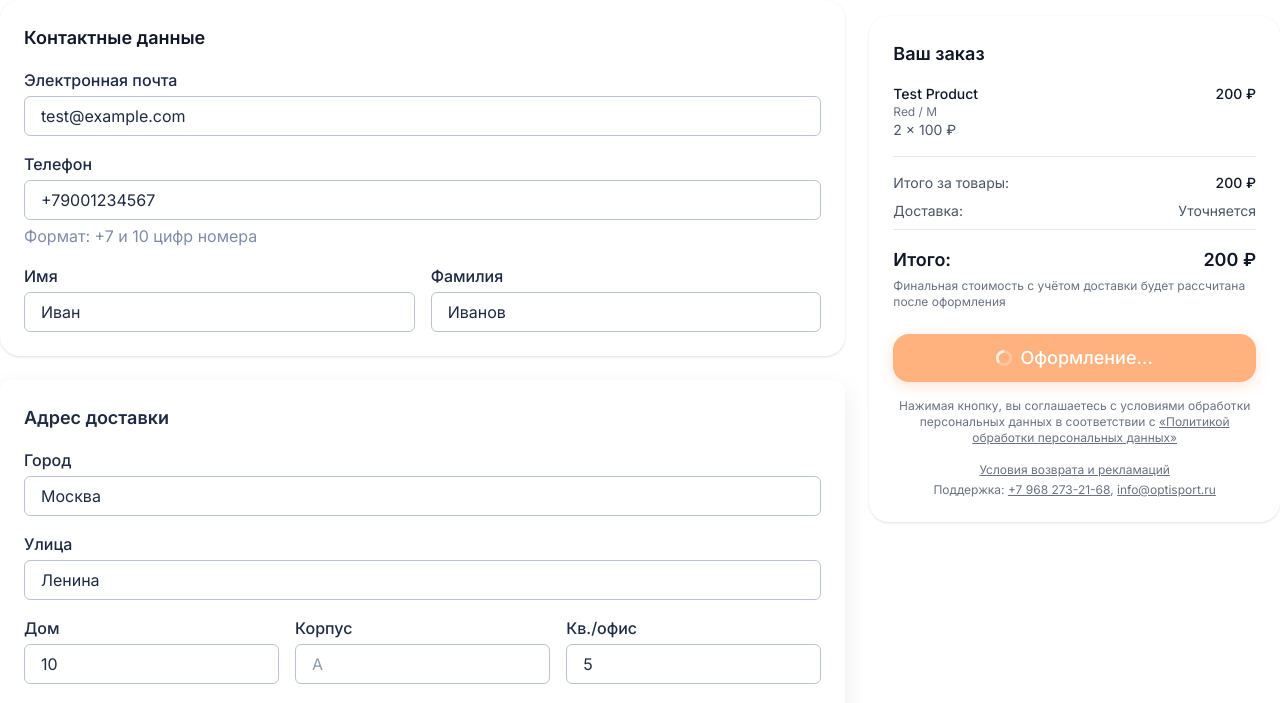
CheckoutForm › Address loading и автозаполнение из API (spec checkout-address-ux) › ручное редактирование показывает чекбокс «Запомнить»
The image size is (1280, 703).
Step 1. Type "Тверь" into the field labelled "Город" → {"x": 423, "y": 496}, box top-left (24, 476), bottom-right (821, 516)
(page scrolled)
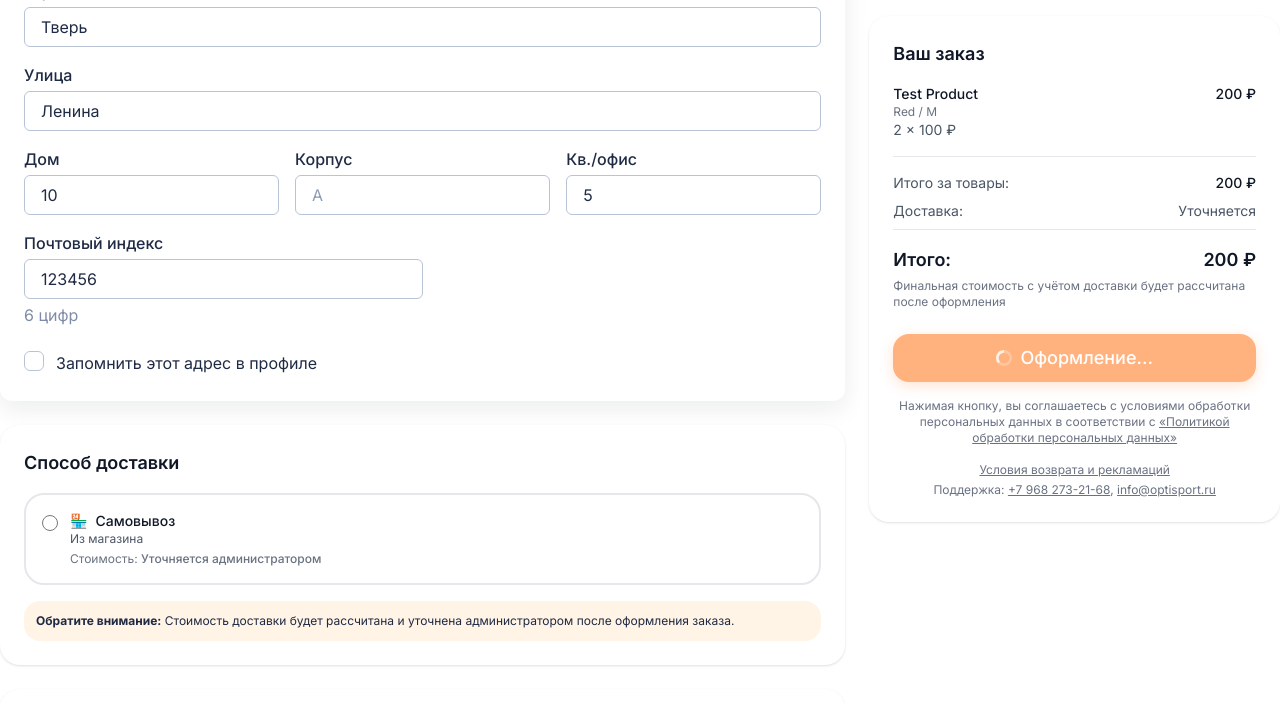
Expected: the element with test id "save-address-checkbox-wrapper" is shown, top-left (24, 351), bottom-right (317, 373)
